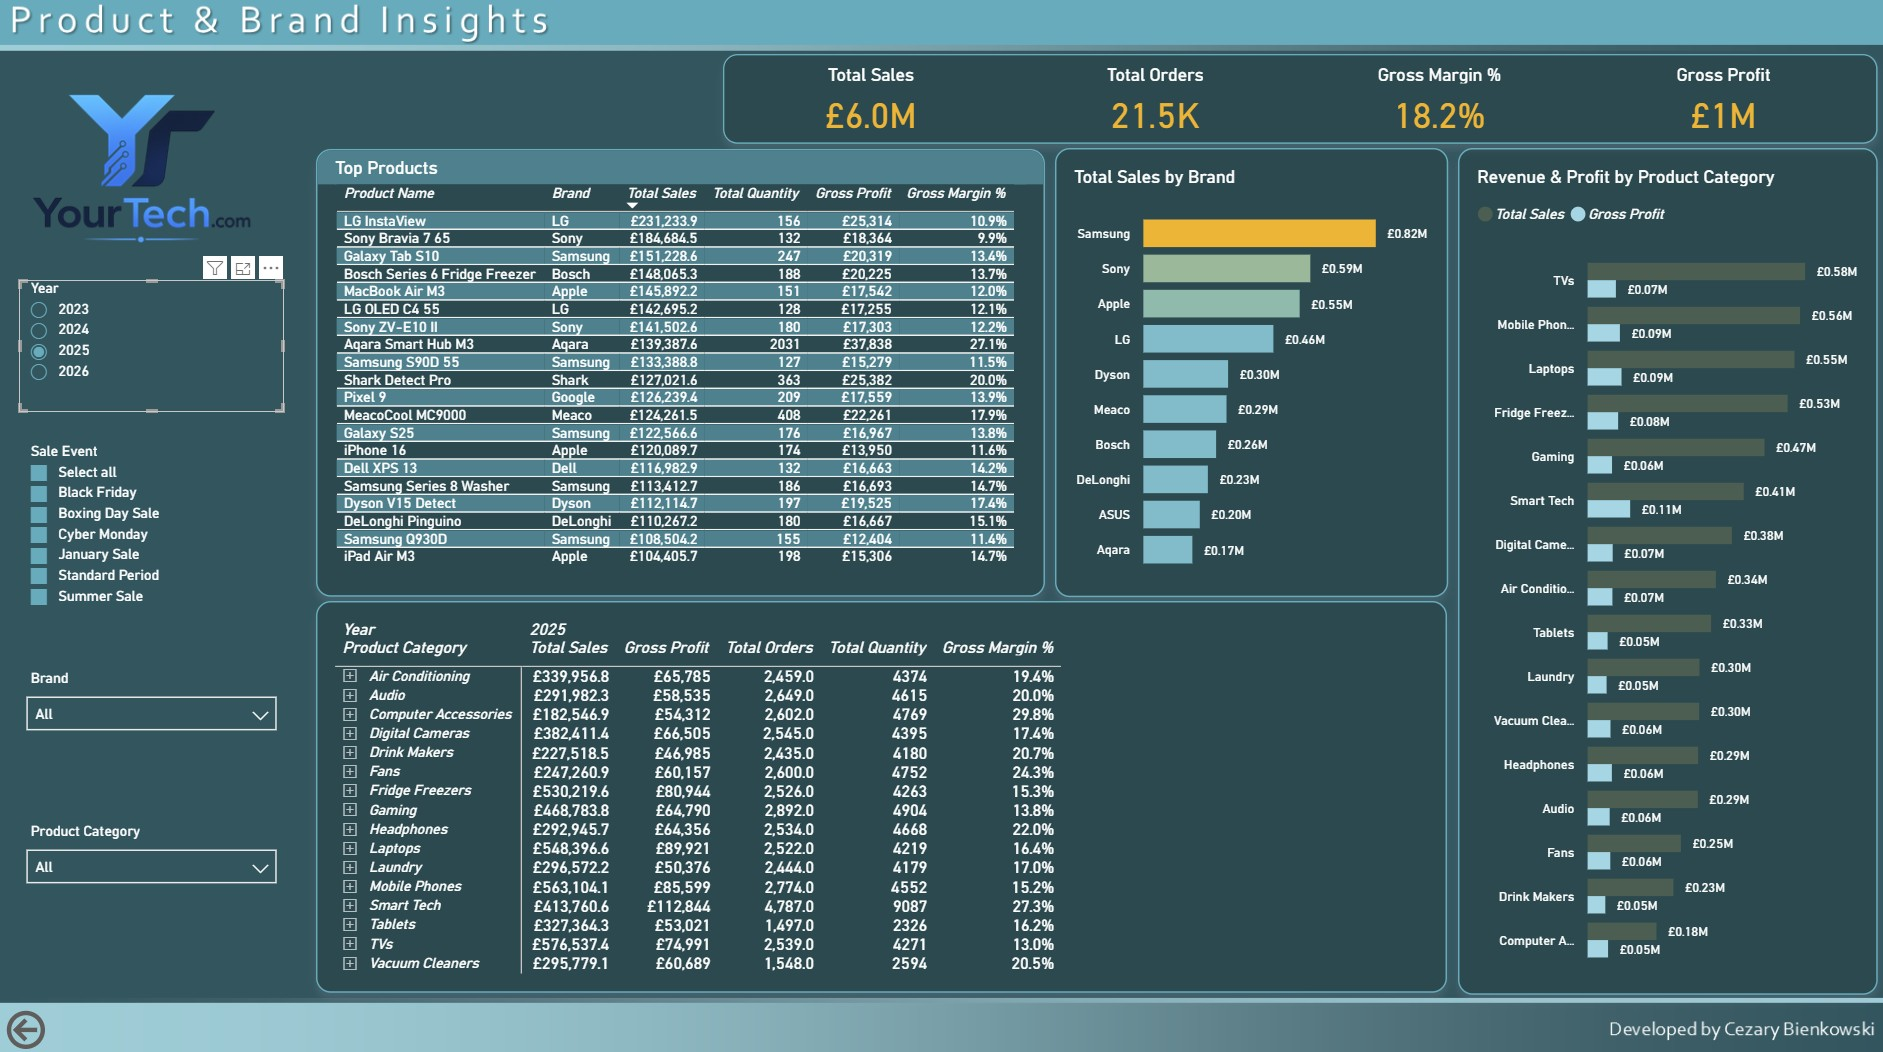

The page's visual inventory and layout, read from the dashboard file:
{"tool":"powerbi","page":{"name":"Product & Brand Insights","canvas":[1280,720],"ordinal":4},"visuals":[{"type":"clusteredBarChart","title":"Revenue & Profit by Product Category","fields":{"Y":["_Measures.Total Sales","_Measures.Gross Profit"],"Category":["dProducts.Product Category"]},"box":[990.1,103.4,284.7,574.6],"z":0},{"type":"cardVisual","fields":{"Data":["_Measures.Total Sales","_Measures.Total Orders","_Measures.Profit Margin %","_Measures.Gross Profit"]},"box":[491.1,39.7,783.9,60.6],"z":1000},{"type":"barChart","fields":{"Category":["dProducts.Brand"],"Y":["_Measures.Total Sales"]},"box":[716.1,103.1,266.8,305],"z":2000},{"type":"tableEx","title":"Top Products","fields":{"Values":["dProducts.Product Name","dProducts.Brand","_Measures.Total Sales","_Measures.Total Quantity","_Measures.Gross Profit","_Measures.Gross Margin %"]},"box":[214.9,103.8,495.4,304.3],"z":3000},{"type":"pivotTable","fields":{"Rows":["dProducts.Product Category","dProducts.Brand","dProducts.Product Name"],"Columns":["dDate.Year"],"Values":["_Measures.Total Sales","_Measures.Gross Profit","_Measures.Total Orders","_Measures.Total Quantity"]},"box":[214.6,412.3,768.3,265.7],"z":4000},{"type":"slicer","fields":{"Values":["dDate.Year"]},"box":[13,192.5,179.6,90.1],"z":5000},{"type":"slicer","fields":{"Values":["dSale Event.Sale_Event_Name"]},"box":[13.1,303.6,179.3,130.9],"z":6000},{"type":"slicer","fields":{"Values":["dProducts.Brand"]},"box":[13,457.9,180.3,80],"z":7000},{"type":"slicer","fields":{"Values":["dProducts.Product Category"]},"box":[13,561.8,180.3,42.5],"z":8000},{"type":"actionButton","box":[0,684.3,100.2,35.2],"z":9000}]}

Visuals, with their boxes in screenshot pixels (x1, y1, x2, y2), scaled from the page's 1280x720 canvas onto the 1883x1052 screenshot:
"Revenue & Profit by Product Category" clusteredBarChart: left=1457, top=151, right=1875, bottom=991
cardVisual - _Measures.Total Sales x _Measures.Total Orders: left=722, top=58, right=1876, bottom=147
barChart - dProducts.Brand x _Measures.Total Sales: left=1053, top=151, right=1446, bottom=596
"Top Products" tableEx: left=316, top=152, right=1045, bottom=596
pivotTable - dProducts.Product Category x dProducts.Brand: left=316, top=602, right=1446, bottom=991
slicer - dDate.Year: left=19, top=281, right=283, bottom=413
slicer - dSale Event.Sale_Event_Name: left=19, top=444, right=283, bottom=635
slicer - dProducts.Brand: left=19, top=669, right=284, bottom=786
slicer - dProducts.Product Category: left=19, top=821, right=284, bottom=883
actionButton: left=0, top=1000, right=147, bottom=1051
